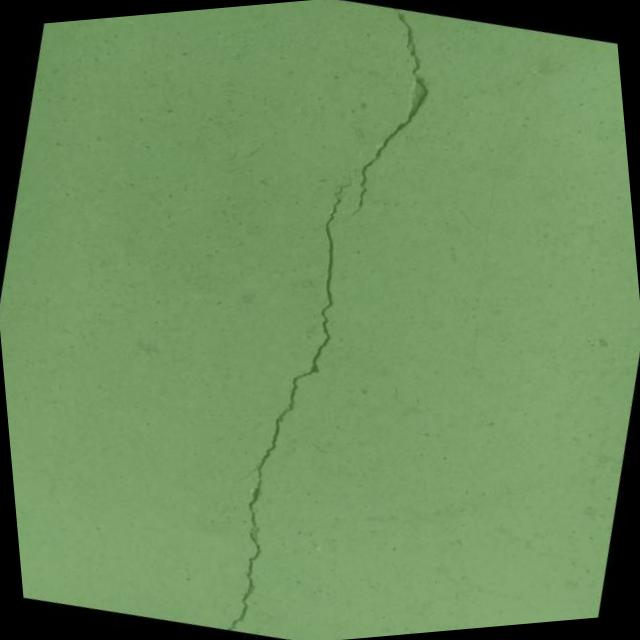crack: (152, 0, 493, 640)
